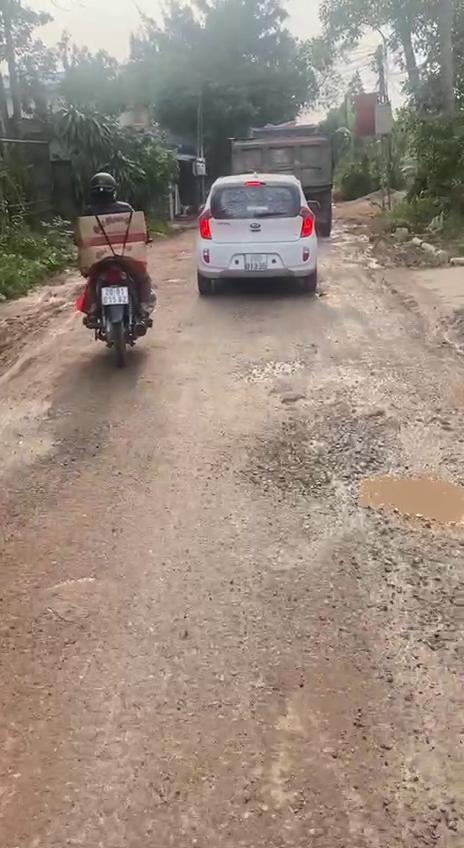pothole: (248, 401, 464, 536)
